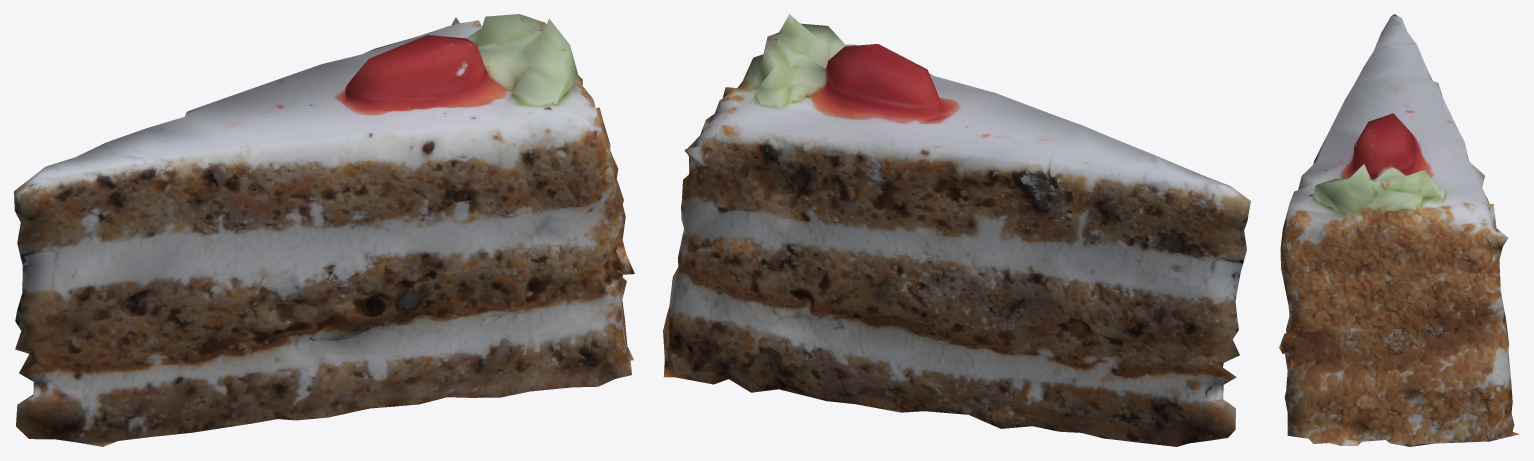
File: cake_4.fbx
3 views of the same model, side by side, from view 1: azimuth 30°, elevation 25°; view 2: azimuth 150°, elevation 25°; view 3: azimuth 270°, elevation 25° (orthographic). The views are drawn at different scales.
Visible parts, largest first — view 1: cake_4; view 2: cake_4; view 3: cake_4.
Part boxes in pixels (<box>): cake_4: <box>14,14,634,446</box>; cake_4: <box>663,14,1250,446</box>; cake_4: <box>1279,14,1519,446</box>.
Bounding box in the file's own units: 12.83 × 7.09 × 5.89.
